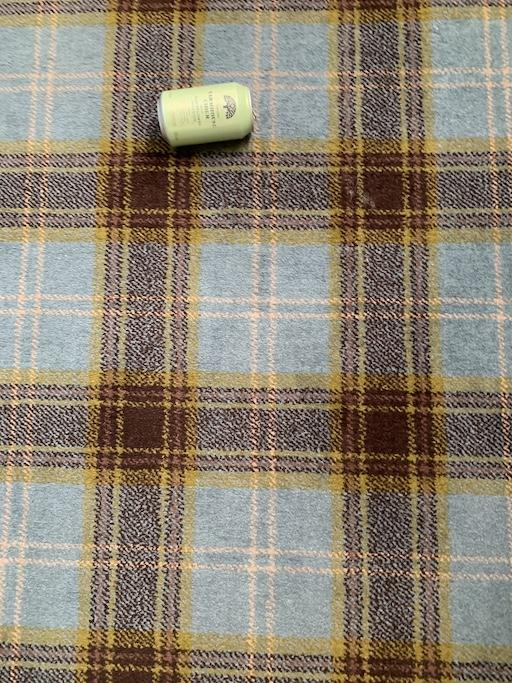Aluminum can: (149, 60, 314, 168)
